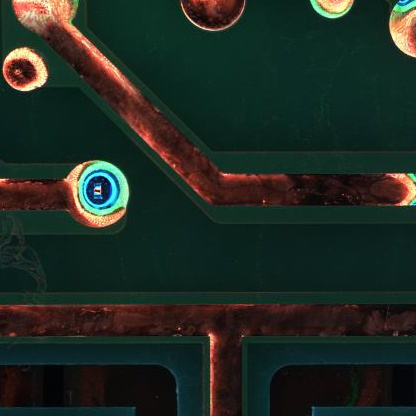spot: (68, 158, 130, 227)
